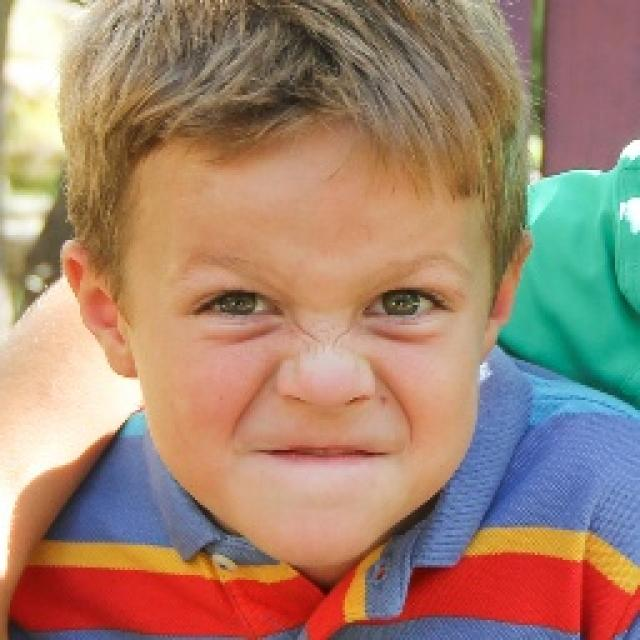earlobe: (103, 330, 137, 378), (479, 309, 504, 365)
eye: (360, 288, 443, 320), (196, 288, 277, 320)
nose: (275, 387, 381, 448)
wholeear: (60, 240, 136, 378), (480, 228, 534, 364)
